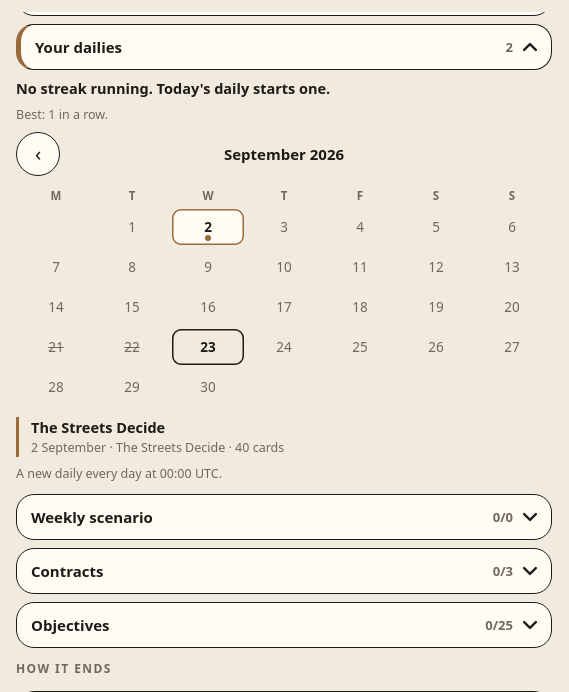
Test: the month of dailies › pages back to the first month played and no further, nor past this one
(page scrolled)
Click the button named "Earlier month". click: (38, 154)
box: x1=16 y1=132 x2=60 y2=176
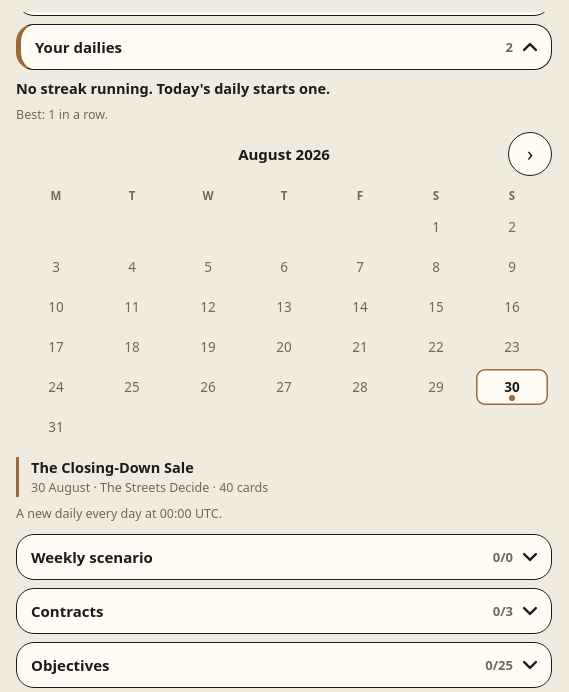
Now the heading "August 2026" is shown, box x1=238 y1=144 x2=330 y2=164
Click the button named "Later month". click: (530, 154)
box: x1=508 y1=132 x2=552 y2=176
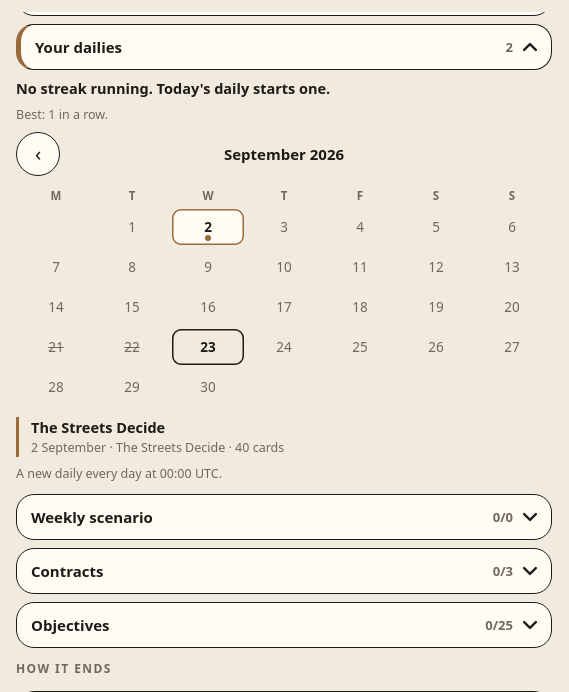
Now the heading "September 2026" is shown, box x1=224 y1=144 x2=344 y2=164
